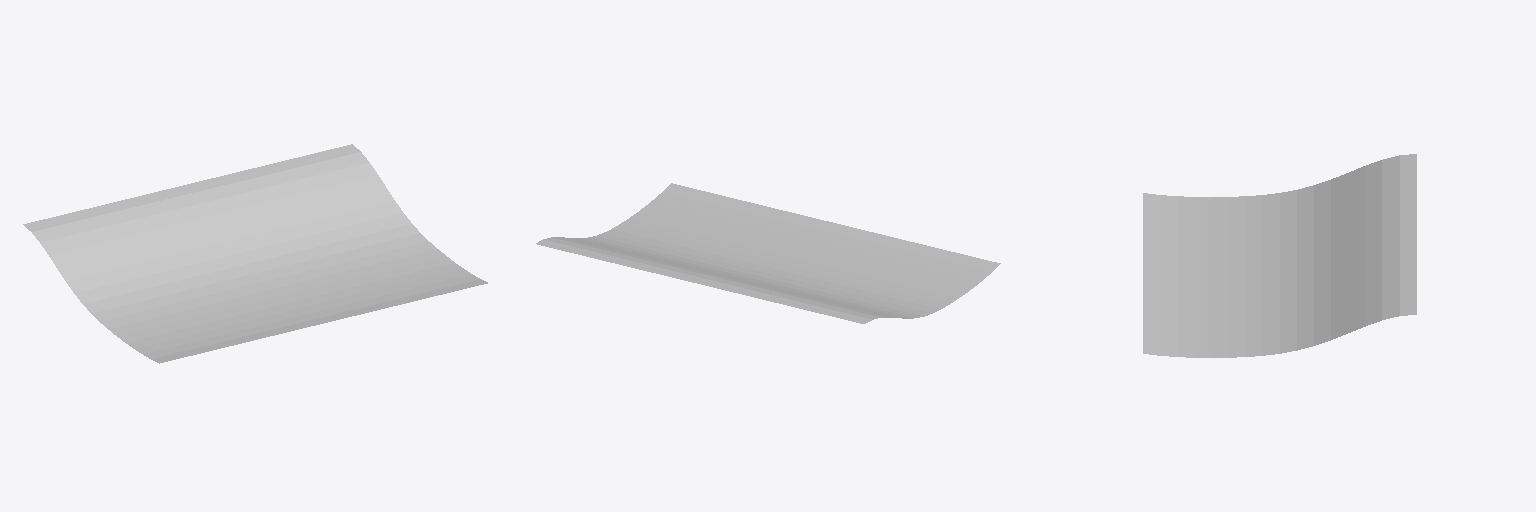
The model's file is Olas4.obj.
3 views of the same model, side by side, from view 1: azimuth 30°, elevation 25°; view 2: azimuth 150°, elevation 25°; view 3: azimuth 270°, elevation 25° (orthographic).
Visible parts, largest first — view 1: Plane; view 2: Plane; view 3: Plane.
Part boxes in pixels (x1,y1,x2,y2): Plane: (23, 144, 487, 363); Plane: (536, 183, 1000, 323); Plane: (1143, 154, 1416, 357).
Bounding box in the file's own units: 13.82 × 1.74 × 9.91.